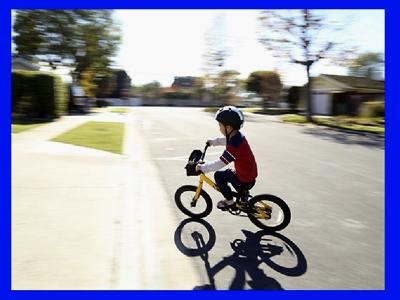With Helmet: (214, 99, 247, 140)
